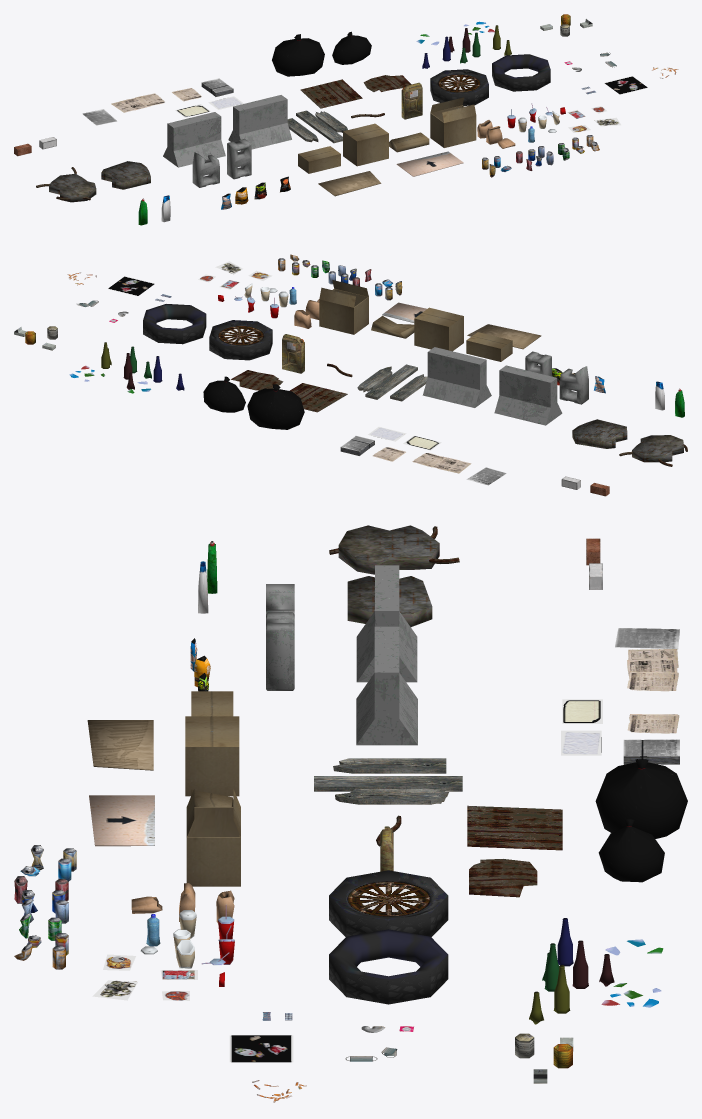
Rendered from trash_and_debris.glb.
3 renders of one model, top to bottom at view 1: azimuth 30°, elevation 25°; view 2: azimuth 150°, elevation 25°; view 3: azimuth 270°, elevation 25°, orthographic. The views are drawn at different scales.
Visible parts, largest first — view 1: Barriar, CardboardBox_2, Wheel_1, TrashBag_1, Wheel_2, CardboardBox_1, Concrete_Debris_2, Concrete_Debris_1, Sheet_Metal_1, TrashBag_2, Cinder_Block_1, Cardboard_Cutout_2 (+16 smaller); view 2: Barriar, CardboardBox_2, Wheel_1, TrashBag_1, Wheel_2, CardboardBox_1, Concrete_Debris_2, Concrete_Debris_1, TrashBag_2, CardboardBox_3, Cinder_Block_2, Sheet_Metal_1 (+16 smaller); view 3: Wheel_1, Wheel_2, TrashBag_1, Barriar, CardboardBox_2, CardboardBox_1, Concrete_Debris_2, Sheet_Metal_1, Cardboard_Cutout_2, Cardboard_Cutout_1, TrashBag_2, Concrete_Debris_1 (+14 smaller).
Part boxes in pixels (x1,y1,x2,y2): Barriar: (228,95,291,149); CardboardBox_2: (430,97,476,147); Wheel_1: (430,69,488,105); TrashBag_1: (272,34,324,76); Wheel_2: (492,54,550,91); CardboardBox_1: (343,123,388,166); Concrete_Debris_2: (36,167,96,202); Concrete_Debris_1: (101,161,150,189); Sheet_Metal_1: (300,79,362,108); TrashBag_2: (332,31,371,64); Cinder_Block_1: (227,138,251,179); Cardboard_Cutout_2: (396,151,463,176); Barriar: (422,347,491,407); CardboardBox_2: (319,280,368,334); Wheel_1: (209,320,272,360); TrashBag_1: (247,384,304,429); Wheel_2: (143,304,206,344); CardboardBox_1: (414,307,463,351); Concrete_Debris_2: (619,435,687,466); Concrete_Debris_1: (572,419,627,448); TrashBag_2: (203,376,245,412); CardboardBox_3: (466,332,512,361); Cinder_Block_2: (559,366,588,404); Sheet_Metal_1: (289,383,347,412); Wheel_1: (329,870,448,936); Wheel_2: (329,929,448,1004); TrashBag_1: (595,759,687,838); Barriar: (356,626,417,745); CardboardBox_2: (186,789,240,886); CardboardBox_1: (185,716,239,796); Concrete_Debris_2: (329,525,459,574); Sheet_Metal_1: (467,805,562,850); Cardboard_Cutout_2: (89,795,154,846); Cardboard_Cutout_1: (87,720,153,770); TrashBag_2: (598,819,664,882); Concrete_Debris_1: (347,576,432,626).
Size of the model in its own units: 23.34 by 1.86 by 11.5.
17 materials, 17 textured.
